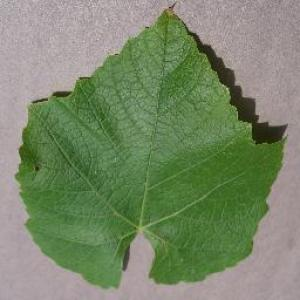Folha: (14, 3, 288, 290)
